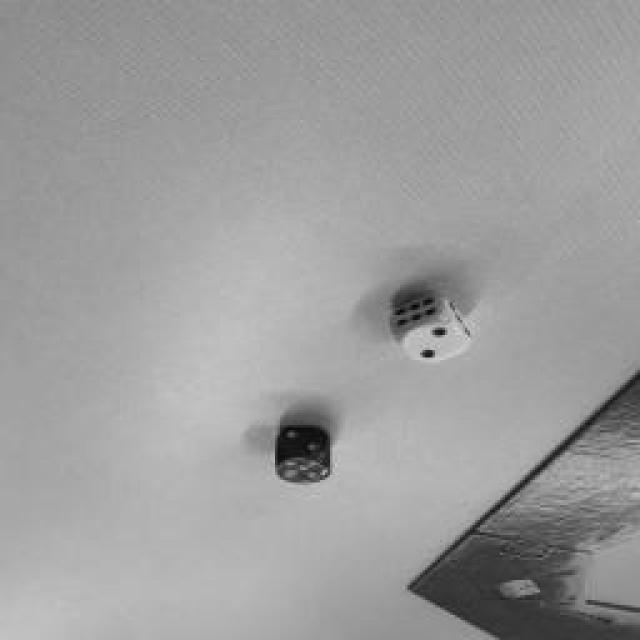dice_2: (402, 321, 468, 361)
dice_4: (278, 457, 330, 485)
